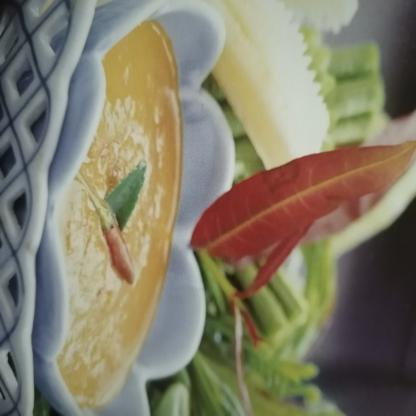Namprig: (56, 11, 200, 399)
